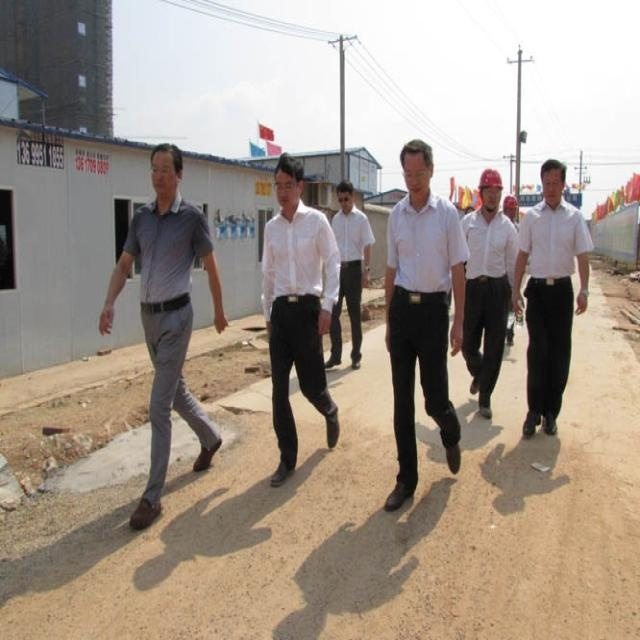Con_Casco: (478, 167, 505, 216)
Sin_Casco_Mascarrilla: (151, 142, 182, 205), (538, 158, 566, 208)
Sin_Chaleco: (257, 205, 335, 311), (384, 191, 460, 295)
